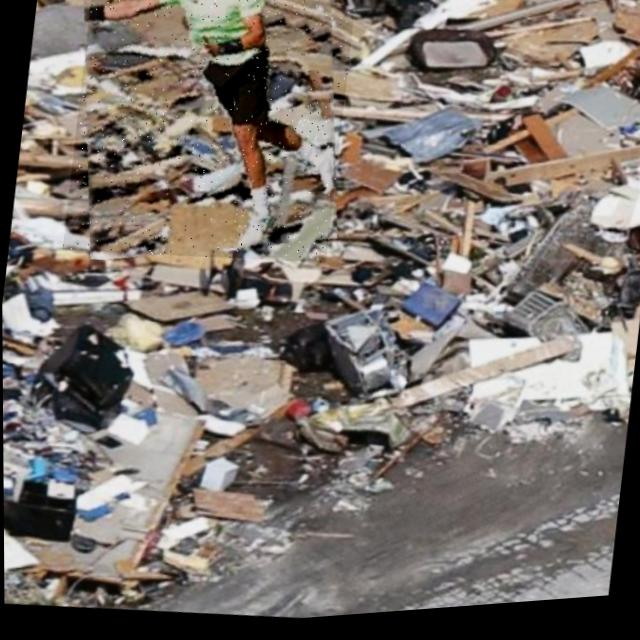Person in Rubble: (60, 0, 360, 283)
